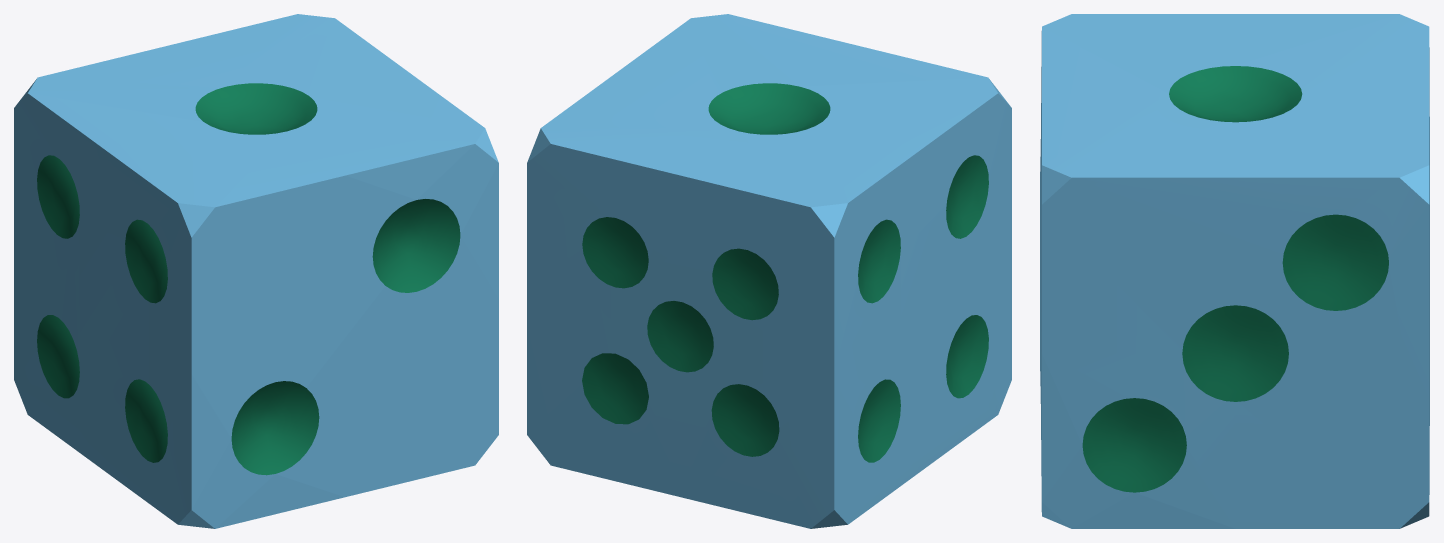
The model's file is Dice_Blue.fbx.
3 renders of one model, left to right at view 1: azimuth 30°, elevation 25°; view 2: azimuth 150°, elevation 25°; view 3: azimuth 270°, elevation 25°, orthographic. The views are drawn at different scales.
Parts seen in each view (by area): view 1: Dice_Blue; view 2: Dice_Blue; view 3: Dice_Blue.
Boxes of the visible parts, bbox=[...] form: Dice_Blue: bbox=[14, 14, 498, 528]; Dice_Blue: bbox=[527, 14, 1011, 528]; Dice_Blue: bbox=[1040, 14, 1429, 528].
Size of the model in its own units: 110 by 111 by 111.
